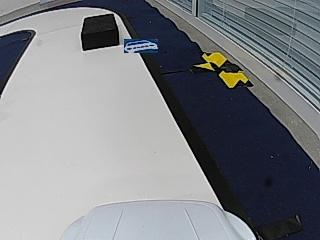block: (81, 14, 118, 50)
